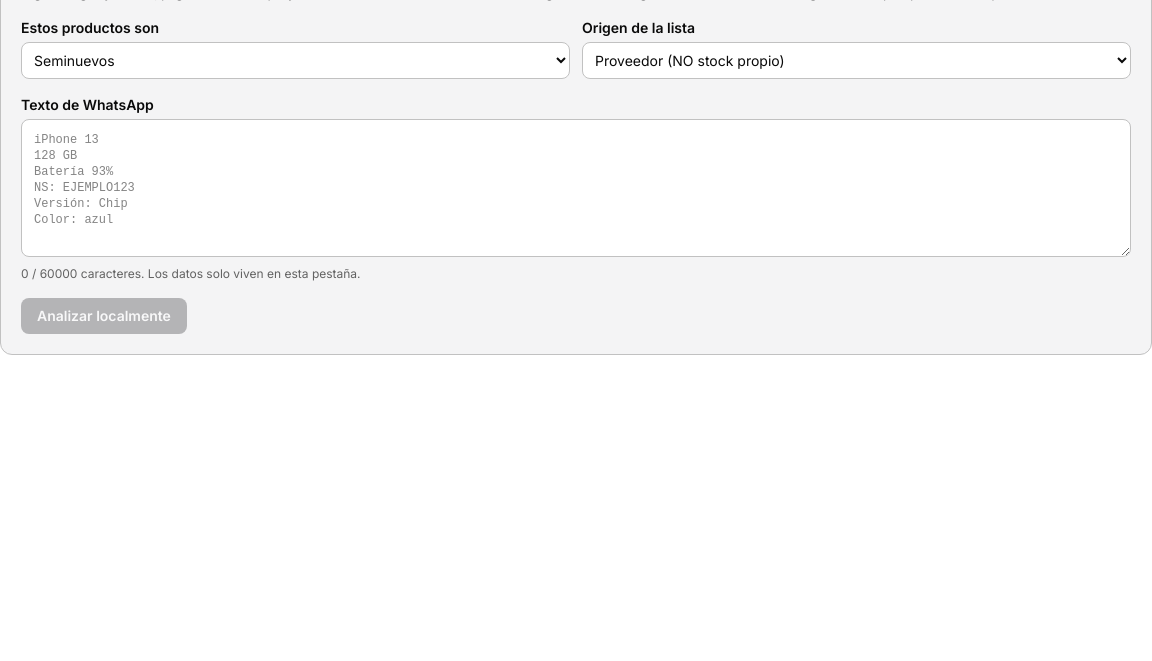
Scenario: abre el importador oficial con el libro del borrador y lanza SU vista previa, sin aplicar nada
Step 1. Select "Nuevos" in the dropdown named "Línea declarada" → (296, 60), box [21,42,570,79]
Step 2. Replace the text in the text box named "Texto para reconocer" with "IPH 15 128 2300 negro" → (576, 188), box [21,119,1131,257]
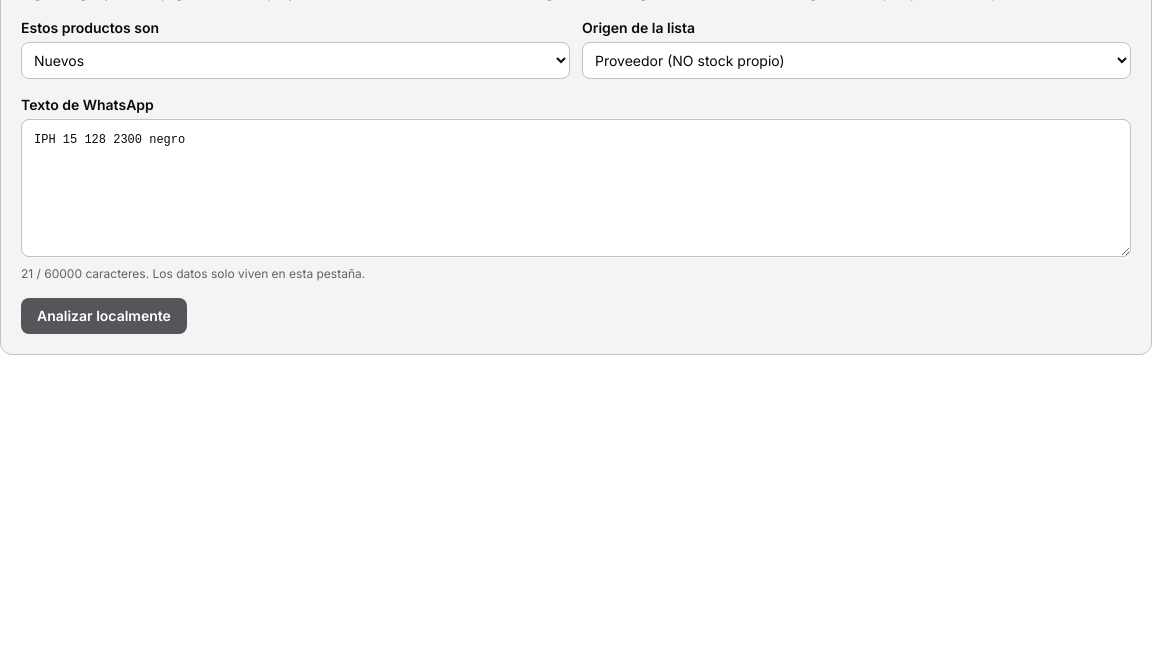
Step 3. Click the button "Analizar localmente" → (104, 316), box [21,298,187,334]
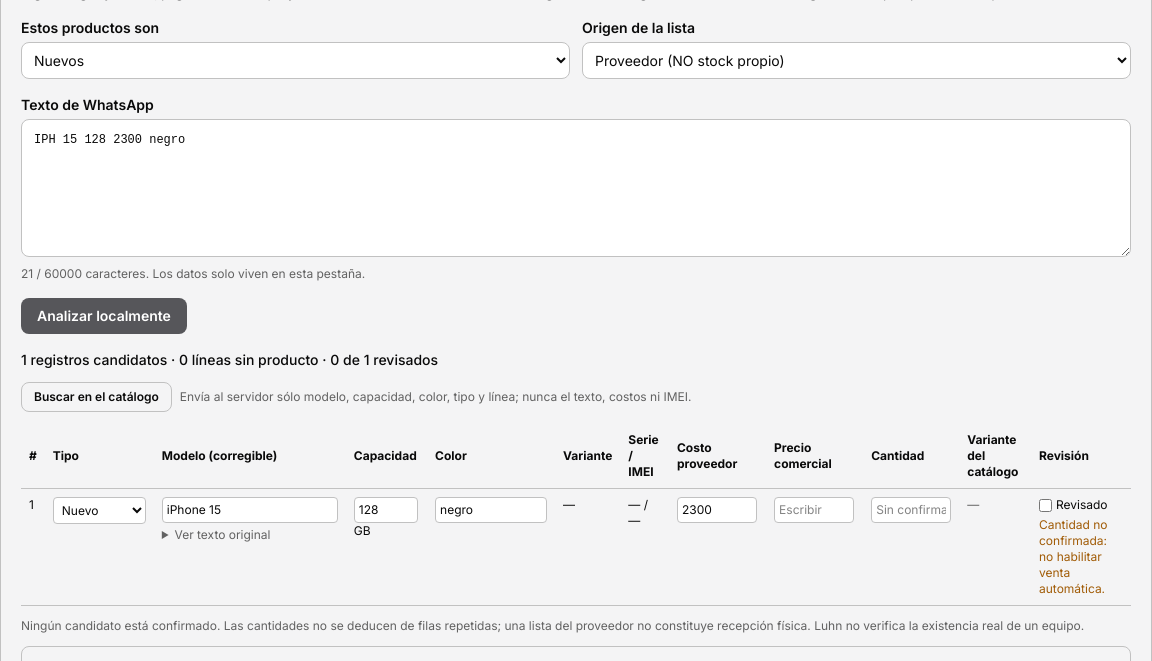
Step 4. Click the button "Buscar en el catálogo" → (96, 397), box [21,382,172,412]
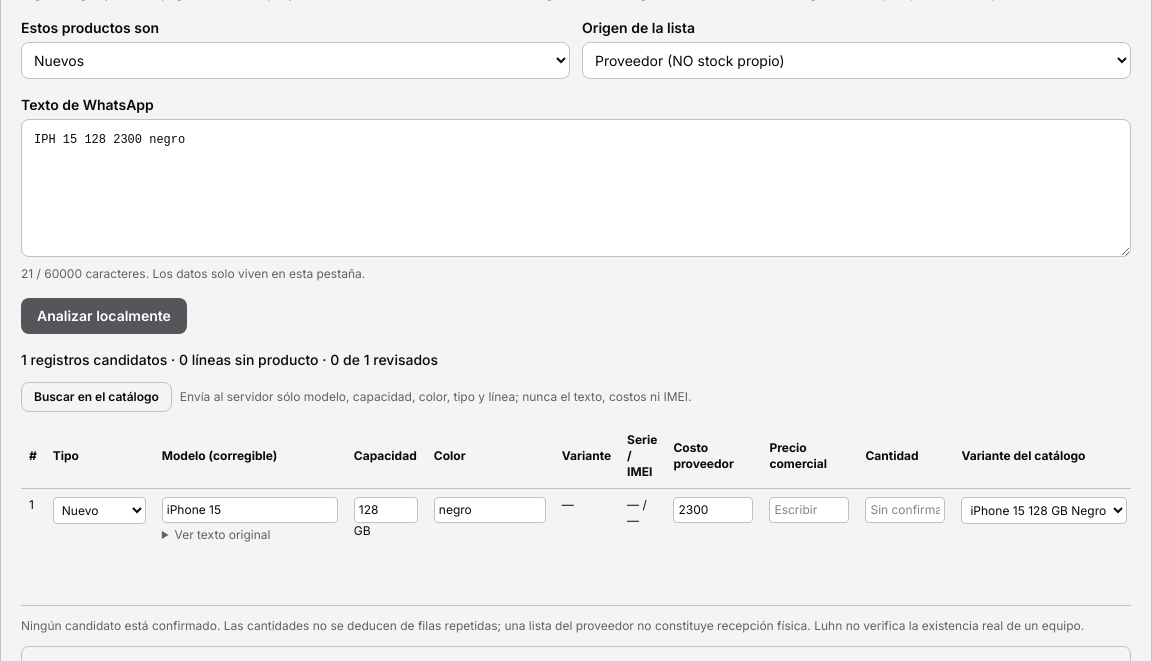
Step 5. Type "2999" into the field named "Precio comercial del registro 1" → (809, 510), box [769,497,849,523]
(page scrolled)
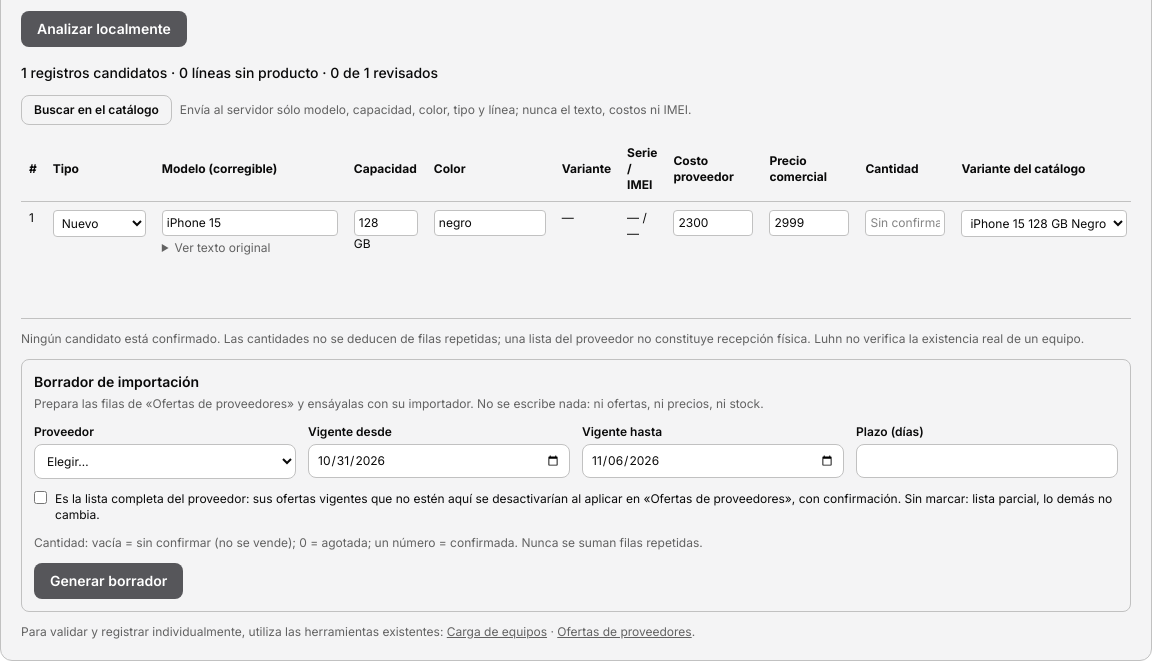
Step 6. Select "Mayorista" in the dropdown named "Proveedor del borrador" → (165, 462), box [34,444,296,479]
Step 7. Click the button "Generar borrador" → (109, 581), box [34,563,183,599]
(page scrolled)
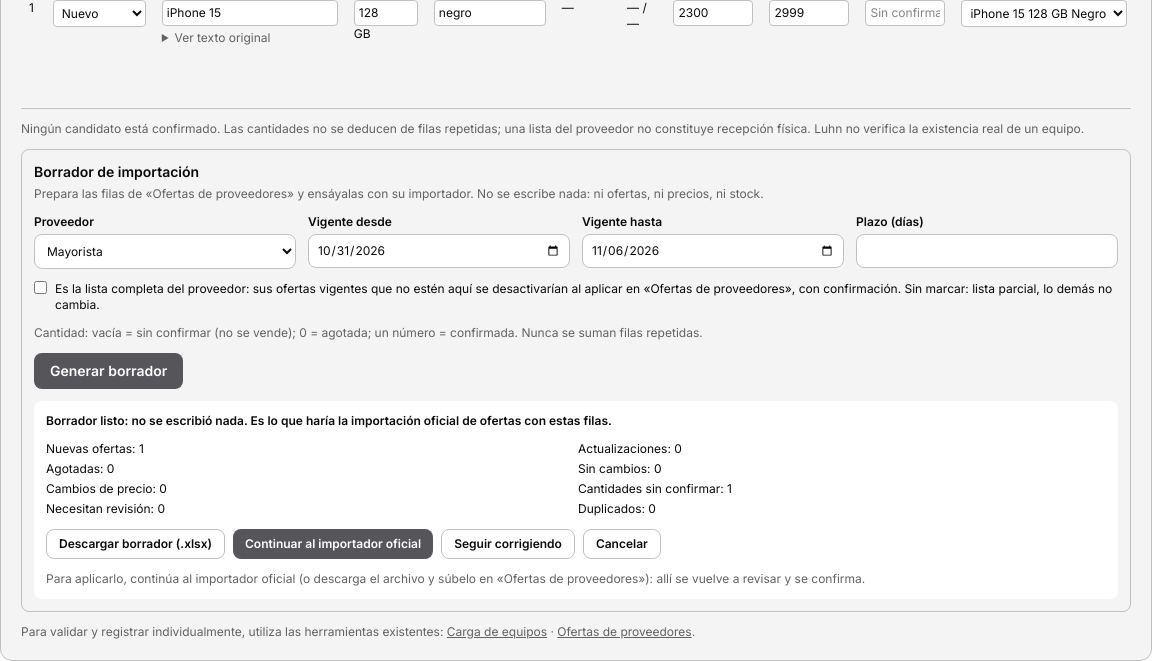
Step 8. Click the button "Continuar al importador oficial" → (333, 544), box [233,529,433,559]
(page scrolled)
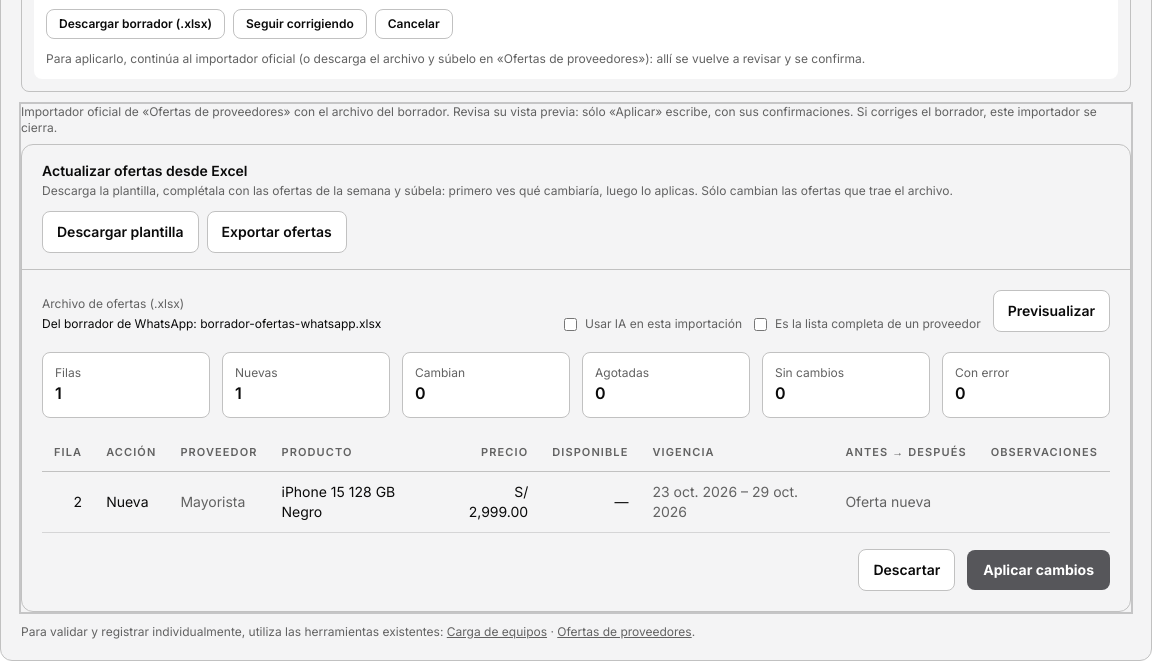
Expected: the element with test id "supplier-import-preview" is shown, [42,352,1110,590]
